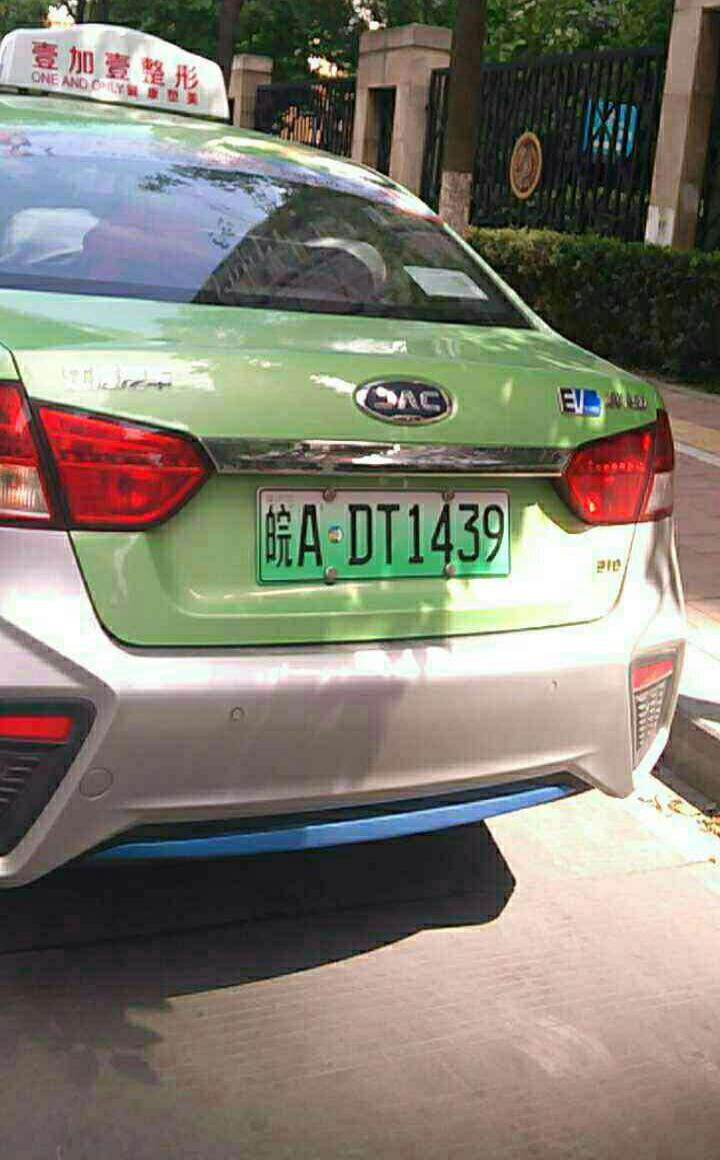car_id: (255, 485, 507, 578)
